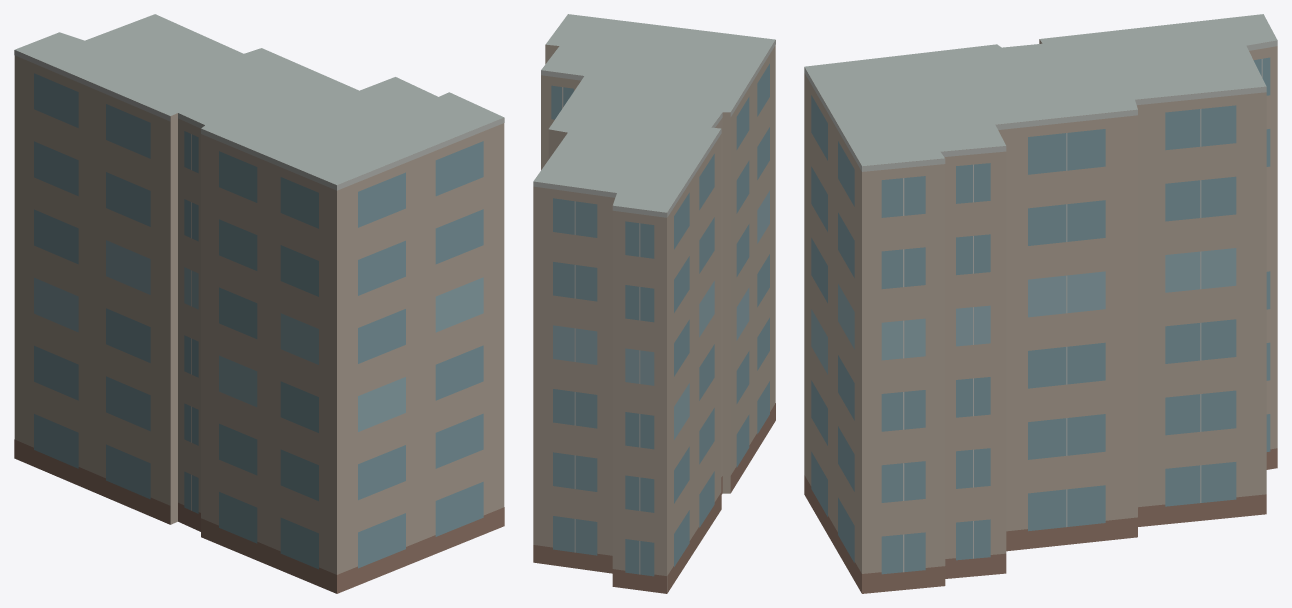
File: survey-upis-32651270.glb
The picture shows the model from 3 angles, left to right: view 1: azimuth 30°, elevation 25°; view 2: azimuth 150°, elevation 25°; view 3: azimuth 270°, elevation 25°; orthographic projection. The views are drawn at different scales.
Parts seen in each view (by area): view 1: survey-upis-32651270.tmp; view 2: survey-upis-32651270.tmp; view 3: survey-upis-32651270.tmp.
Boxes of the visible parts, x1=… form: survey-upis-32651270.tmp: x1=14, y1=14, x2=504, y2=593; survey-upis-32651270.tmp: x1=533, y1=14, x2=775, y2=593; survey-upis-32651270.tmp: x1=804, y1=14, x2=1277, y2=593.
Bounding box in the file's own units: 13.98 × 18.3 × 18.37.
